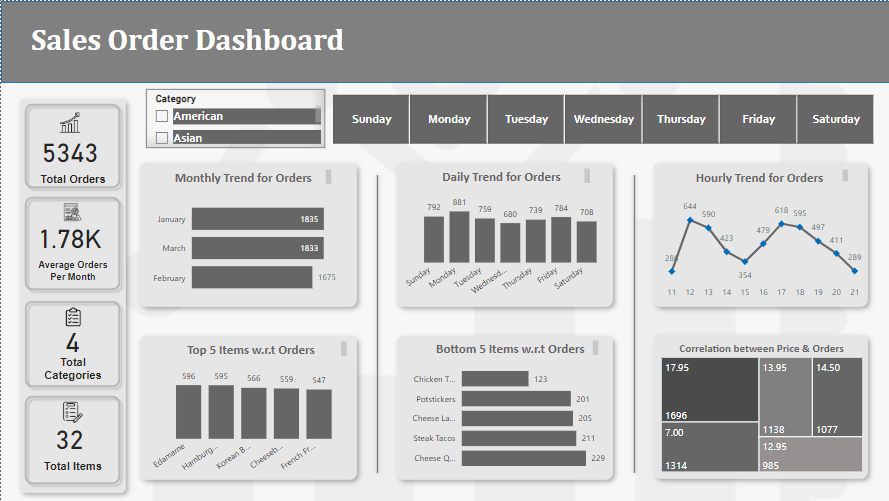

Layout of this report page (visuals, bound fields, positions):
{"tool":"powerbi","page":{"name":"Sales_Order_Dashboard","canvas":[1280,720],"ordinal":0},"visuals":[{"type":"shape","box":[0,0,1280,117.8],"z":0},{"type":"textbox","box":[13,24.5,511.2,69.1],"z":1000},{"type":"shape","box":[557.3,220.8,335.5,231.8],"z":2000},{"type":"shape","box":[927.4,220.8,332.6,231.8],"z":3000},{"type":"shape","box":[927.4,468,332.6,231.8],"z":4000},{"type":"shape","box":[557.3,469.9,335.5,231.8],"z":5000},{"type":"shape","box":[187.2,220.8,337,231.8],"z":6000},{"type":"shape","box":[187.2,469.9,337,231.8],"z":7000},{"type":"shape","box":[14.4,128.2,177.1,591.8],"z":8000},{"type":"shape","box":[897.1,244.8,30.2,440.6],"z":9000},{"type":"shape","box":[527,244.8,30.2,440.6],"z":10000},{"type":"clusteredBarChart","fields":{"Category":["order_details.Month Name"],"Y":["Key Measures.Total orders"]},"box":[208.9,267.8,292.8,169.6],"z":11000},{"type":"columnChart","fields":{"Category":["order_details.Day Name"],"Y":["Key Measures.Total orders"]},"box":[574.8,267.8,303.5,167.8],"z":12000},{"type":"lineChart","fields":{"Category":["order_details.Hour"],"Y":["Key Measures.Total orders"]},"box":[949.7,269.6,294.6,167.8],"z":13000},{"type":"treemap","fields":{"Group":["menu_items.price"],"Values":["Key Measures.Total orders"]},"box":[946.2,508.8,299.9,175],"z":14000},{"type":"clusteredColumnChart","fields":{"Y":["Key Measures.Total orders"],"Category":["menu_items.item_name"]},"box":[210.7,519.5,291,169.6],"z":15000},{"type":"clusteredBarChart","fields":{"Category":["menu_items.item_name"],"Y":["Key Measures.Total orders"]},"box":[574.8,508.8,303.5,178.5],"z":16000},{"type":"card","fields":{"Values":["Key Measures.Total orders"]},"box":[33.1,161.3,131,108],"z":17000},{"type":"card","fields":{"Values":["Key Measures.Avg Orders Per Month"]},"box":[33.1,279.4,131,119.5],"z":18000},{"type":"card","fields":{"Values":["Key Measures.Total Categories"]},"box":[37.4,426.2,131,122.4],"z":19000},{"type":"card","fields":{"Values":["Key Measures.Total Items"]},"box":[33.1,570.2,131,116.6],"z":20000},{"type":"textbox","box":[43.2,243.4,121,37.4],"z":21000},{"type":"textbox","box":[43.2,656.6,121,37.4],"z":22000},{"type":"textbox","box":[43.2,506.9,121,56.2],"z":23000},{"type":"textbox","box":[43.2,365.8,121,46.1],"z":24000},{"type":"image","box":[83.5,436.3,40.3,37.4],"z":25000},{"type":"image","box":[83.5,570.2,40.3,43.2],"z":26000},{"type":"image","box":[83.5,283.7,38.9,40.3],"z":27000},{"type":"image","box":[77.8,155.5,43.2,38.9],"z":28000},{"type":"shape","box":[27.4,141.1,151.2,135.4],"z":29000},{"type":"shape","box":[27.4,424.8,151.2,138.2],"z":30000},{"type":"shape","box":[27.4,275,151.2,148.3],"z":31000},{"type":"shape","box":[27.4,561.6,151.2,141.1],"z":32000},{"type":"slicer","fields":{"Values":["menu_items.category"]},"box":[208.8,126.7,257.8,85],"z":33000},{"type":"slicer","fields":{"Values":["order_details.Day Name"]},"box":[451.7,128.5,828.3,83.9],"z":34000},{"type":"textbox","box":[224.6,237.6,256.3,31.7],"z":35000},{"type":"textbox","box":[967.6,237.4,257.1,30.3],"z":36000},{"type":"textbox","box":[596.3,235.6,257.1,32.1],"z":37000},{"type":"textbox","box":[949.7,485.6,289.2,28.6],"z":38000},{"type":"textbox","box":[609.1,483.8,256.3,31.7],"z":39000},{"type":"textbox","box":[224.9,485.6,278.5,32.1],"z":40000}]}

Visuals, with their boxes in screenshot pixels (x1, y1, x2, y2), scaled from the page's 1280x720 canvas onto the 889x501 screenshot:
shape: 0:0:888:82
textbox: 9:17:364:65
shape: 387:154:620:315
shape: 644:154:875:315
shape: 644:326:875:487
shape: 387:327:620:488
shape: 130:154:364:315
shape: 130:327:364:488
shape: 10:89:133:500
shape: 623:170:644:477
shape: 366:170:387:477
clusteredBarChart - order_details.Month Name x Key Measures.Total orders: 145:186:348:304
columnChart - order_details.Day Name x Key Measures.Total orders: 399:186:610:303
lineChart - order_details.Hour x Key Measures.Total orders: 660:188:864:304
treemap - menu_items.price x Key Measures.Total orders: 657:354:865:476
clusteredColumnChart - Key Measures.Total orders x menu_items.item_name: 146:361:348:479
clusteredBarChart - menu_items.item_name x Key Measures.Total orders: 399:354:610:478
card - Key Measures.Total orders: 23:112:114:187
card - Key Measures.Avg Orders Per Month: 23:194:114:278
card - Key Measures.Total Categories: 26:297:117:382
card - Key Measures.Total Items: 23:397:114:478
textbox: 30:169:114:195
textbox: 30:457:114:483
textbox: 30:353:114:392
textbox: 30:255:114:287
image: 58:304:86:330
image: 58:397:86:427
image: 58:197:85:225
image: 54:108:84:135
shape: 19:98:124:192
shape: 19:296:124:392
shape: 19:191:124:295
shape: 19:391:124:489
slicer - menu_items.category: 145:88:324:147
slicer - order_details.Day Name: 314:89:888:148
textbox: 156:165:334:187
textbox: 672:165:851:186
textbox: 414:164:593:186
textbox: 660:338:860:358
textbox: 423:337:601:359
textbox: 156:338:350:360
